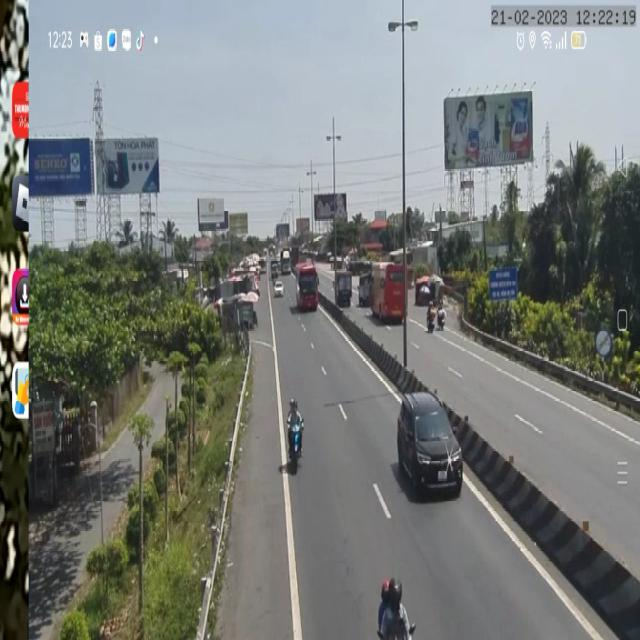bus: (374, 263, 418, 328), (294, 260, 320, 314)
car: (394, 389, 464, 500), (273, 282, 284, 294)
motorbike: (376, 579, 416, 640), (286, 397, 304, 479), (426, 299, 436, 333), (437, 302, 445, 331)
truck: (334, 269, 353, 306), (358, 274, 376, 310)
